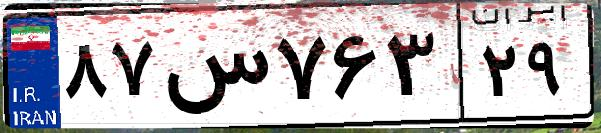2: (475, 38, 525, 113)
3: (385, 28, 445, 110)
6: (330, 28, 385, 110)
7: (270, 28, 330, 110), (110, 28, 158, 98)
8: (57, 26, 110, 100)
9: (525, 38, 570, 115)
س: (158, 20, 270, 120)
